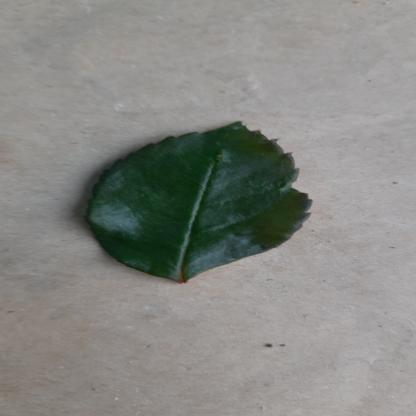powdery-mildew: (76, 115, 315, 286)
